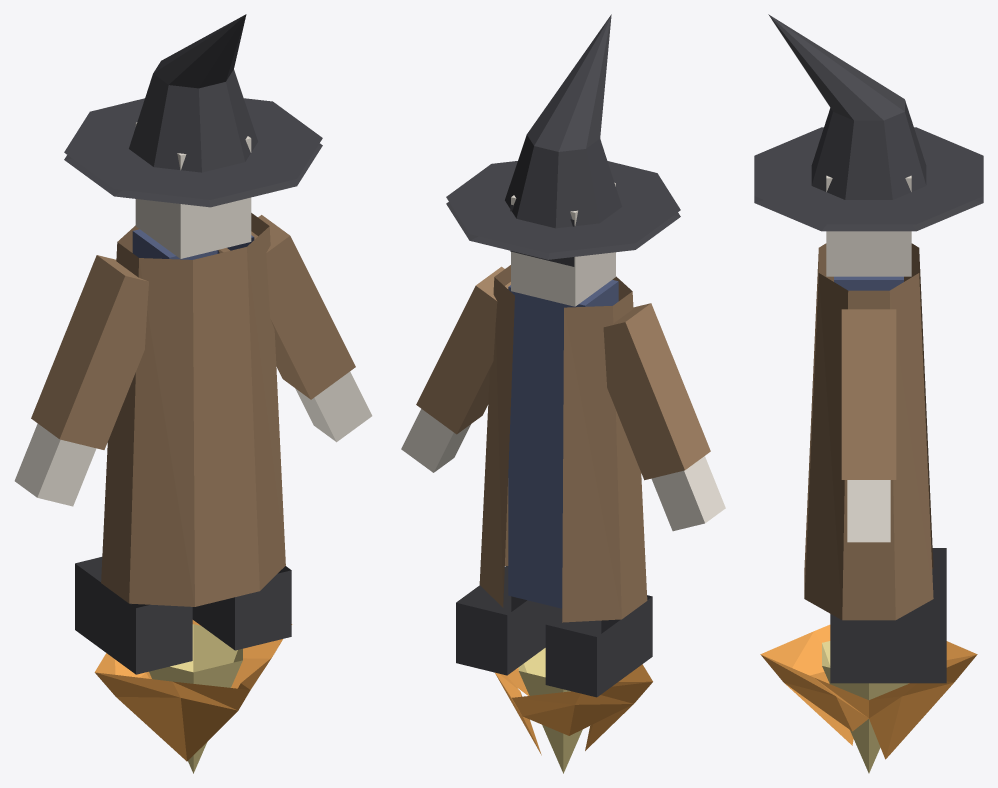
The model's file is alkoldun_flame.gltf.
3 renders of one model, left to right at view 1: azimuth 30°, elevation 25°; view 2: azimuth 150°, elevation 25°; view 3: azimuth 270°, elevation 25°, orthographic. The views are drawn at different scales.
Visible parts, largest first — view 1: coat, dark, skin, flame_outer, flame_core, overalls; view 2: coat, dark, overalls, skin, flame_outer, flame_core; view 3: coat, dark, flame_outer, skin, flame_core, overalls.
Boxes of the visible parts, x1=… form: coat: x1=31, y1=213, x2=355, y2=606; dark: x1=64, y1=14, x2=322, y2=674; skin: x1=14, y1=122, x2=372, y2=506; flame_outer: x1=94, y1=620, x2=292, y2=761; flame_core: x1=149, y1=624, x2=242, y2=773; overalls: x1=132, y1=229, x2=254, y2=259; coat: x1=416, y1=265, x2=710, y2=622; dark: x1=446, y1=14, x2=680, y2=697; overalls: x1=508, y1=279, x2=618, y2=608; skin: x1=401, y1=182, x2=725, y2=531; flame_outer: x1=495, y1=664, x2=652, y2=755; flame_core: x1=518, y1=648, x2=582, y2=773; coat: x1=804, y1=243, x2=933, y2=620; dark: x1=754, y1=14, x2=983, y2=683; flame_outer: x1=760, y1=624, x2=977, y2=759; skin: x1=826, y1=175, x2=911, y2=542; flame_core: x1=822, y1=641, x2=908, y2=773; overalls: x1=834, y1=276, x2=903, y2=290.
Bounding box in the file's own units: 0.4743 × 1.08 × 0.2956.
